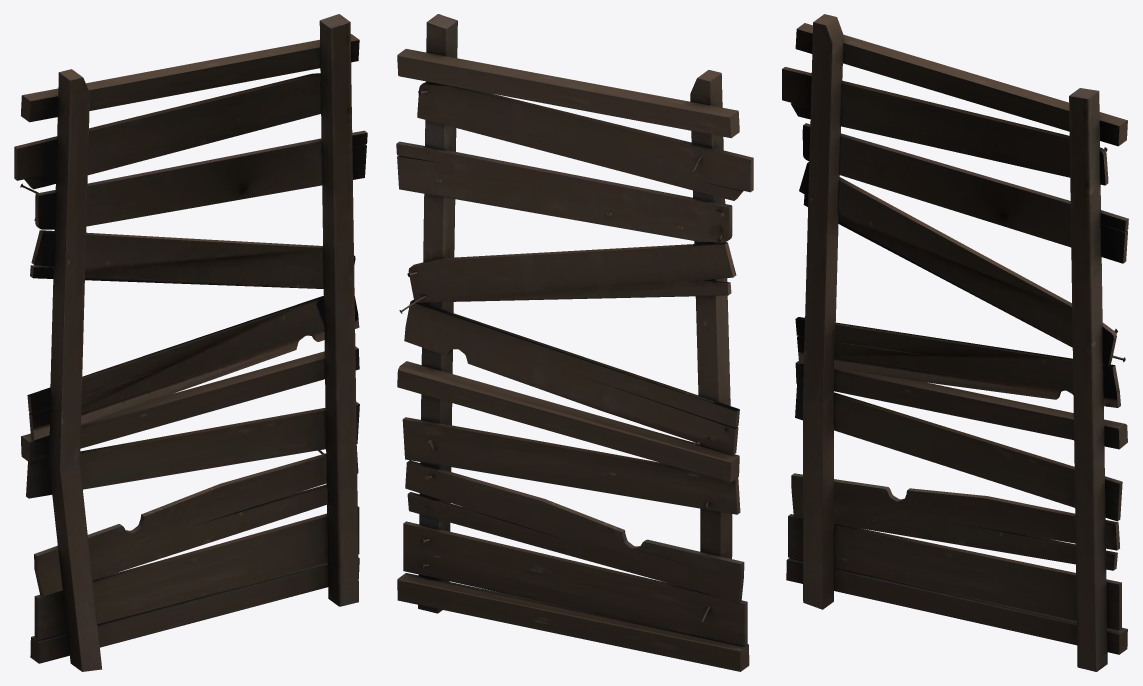
3 views of the same model, side by side, from view 1: azimuth 30°, elevation 25°; view 2: azimuth 150°, elevation 25°; view 3: azimuth 330°, elevation 25° (orthographic). The views are drawn at different scales.
Visible parts, largest first — view 1: body0_model0_lod0_mesh0; view 2: body0_model0_lod0_mesh0; view 3: body0_model0_lod0_mesh0.
Part boxes in pixels (box(x1,y1,x2,y2)): body0_model0_lod0_mesh0: box(14, 14, 367, 671); body0_model0_lod0_mesh0: box(396, 14, 753, 671); body0_model0_lod0_mesh0: box(782, 14, 1128, 671).
Bounding box in the file's own units: 140 × 226 × 24.88.
Materials: 1 (1 with a texture image).
